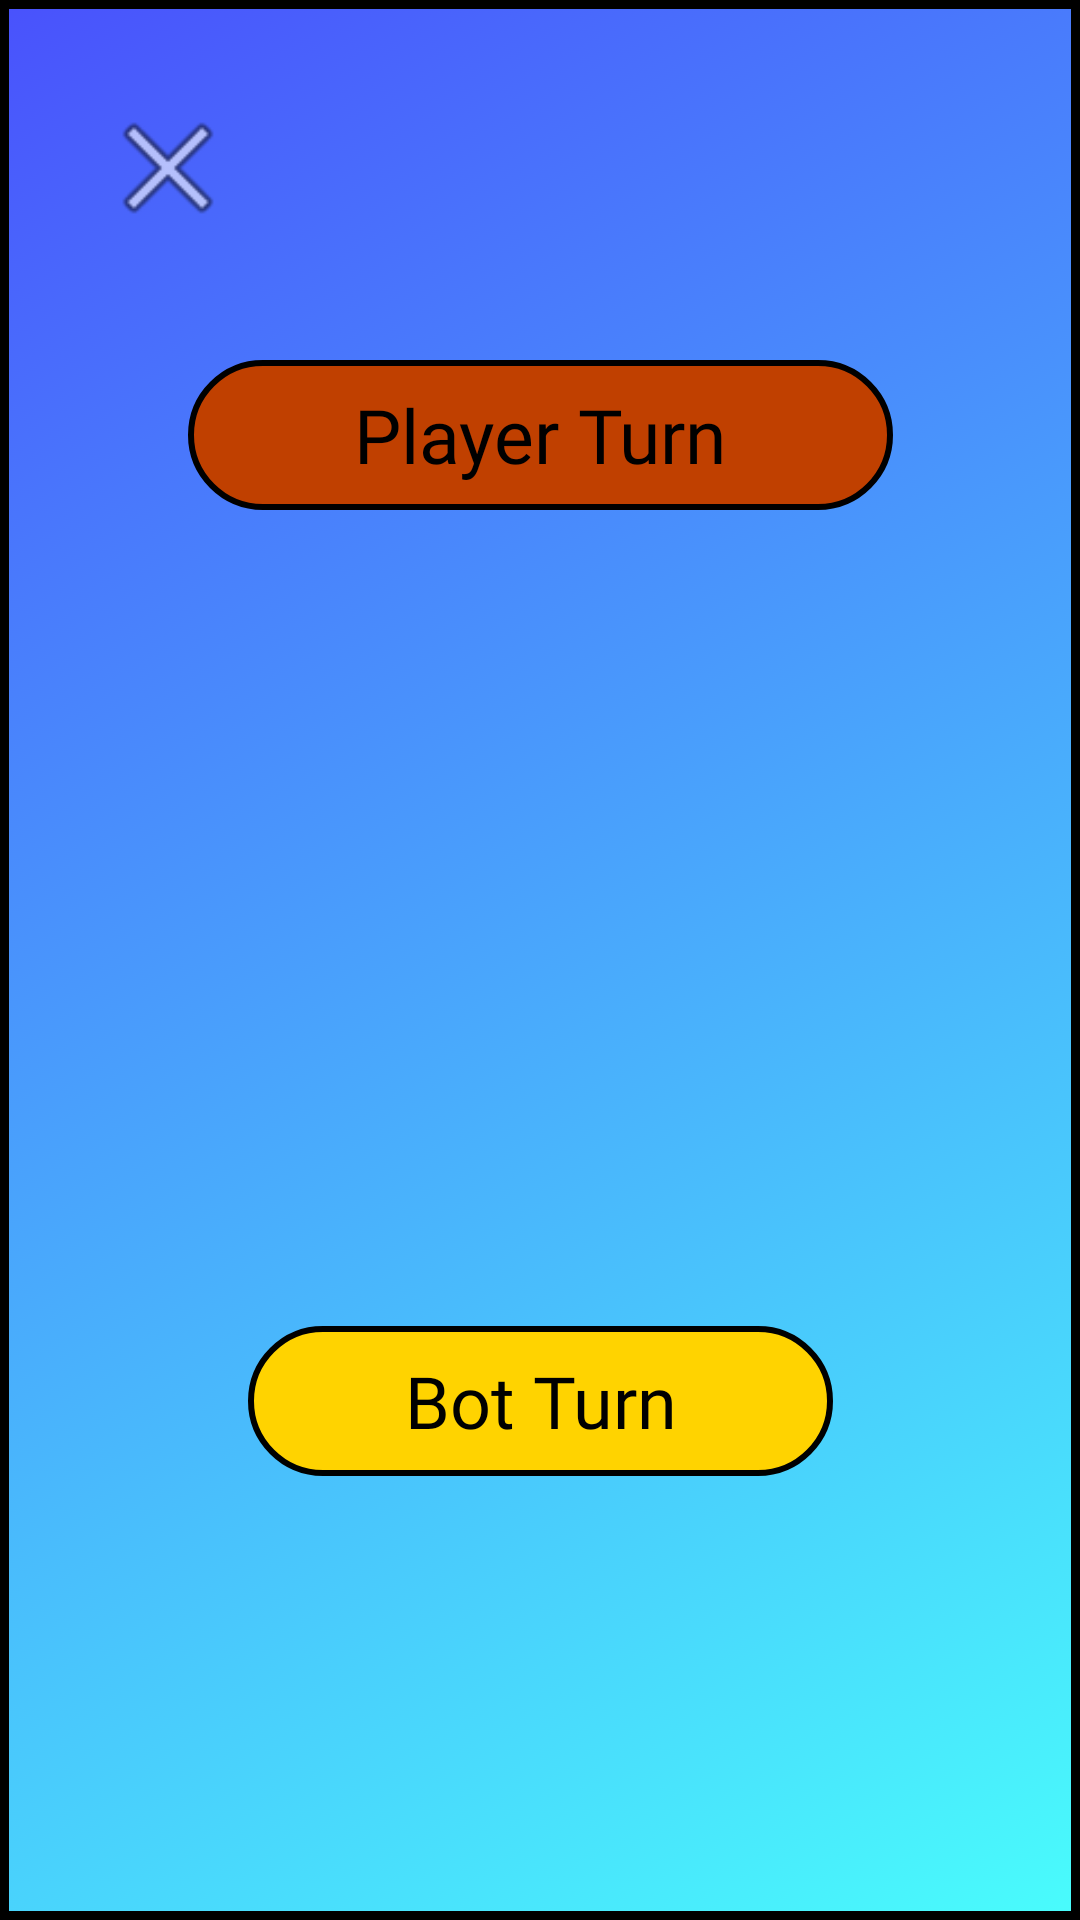

Where icons sit on this 1080×1920 app screen, as (x1, y1, x2, y2):
Back to Main: (123, 123, 213, 213)
